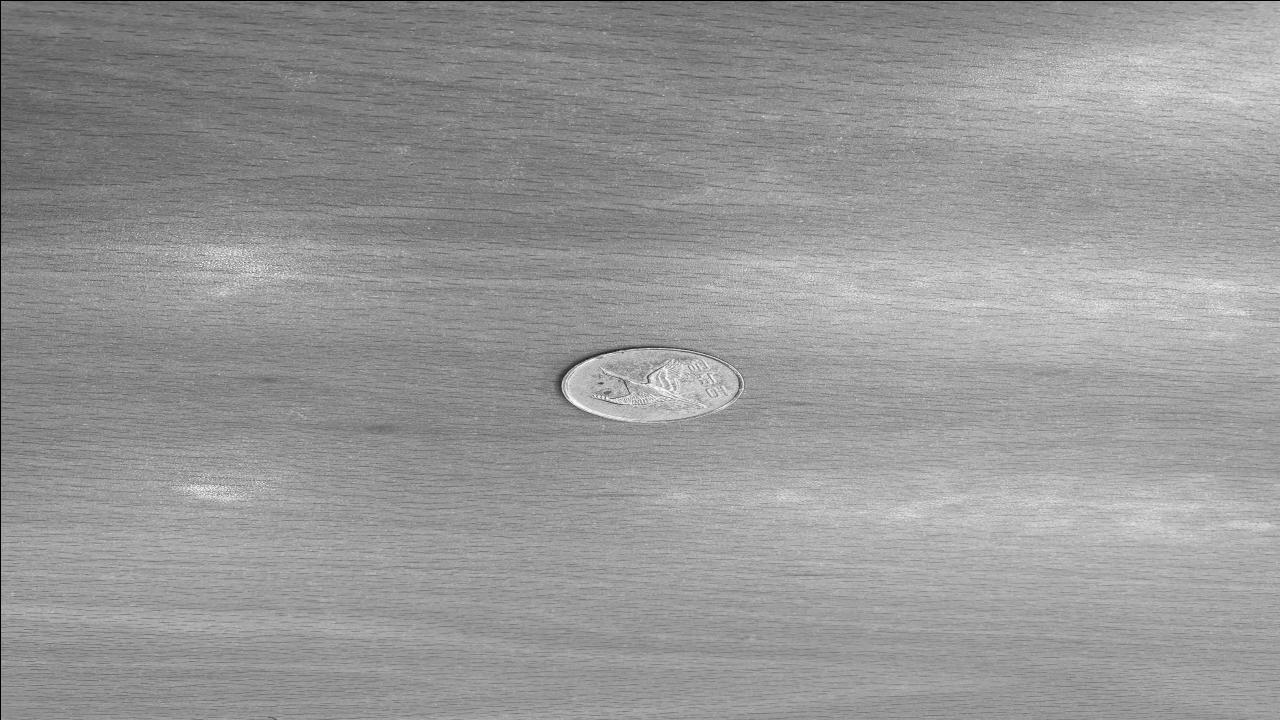coin: (558, 346, 748, 422)
